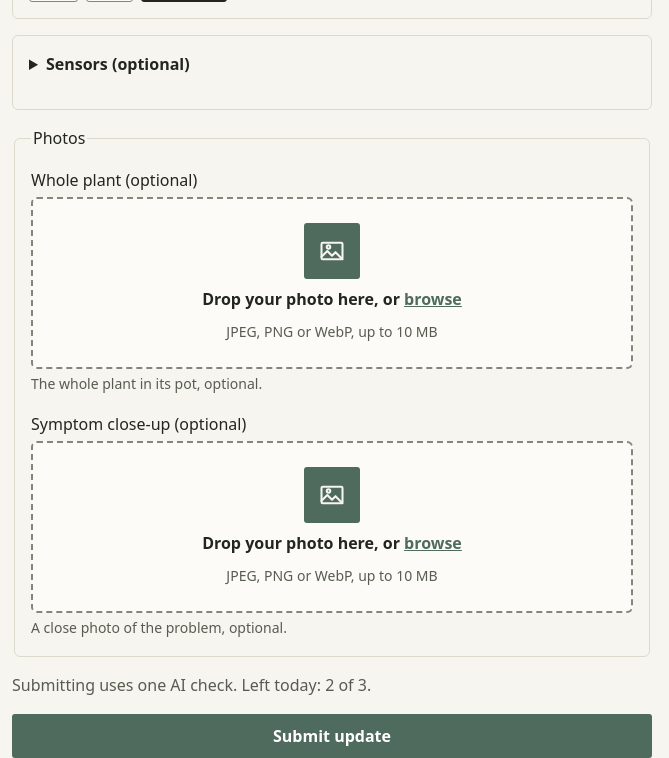
it: NewUpdatePage › needs only the lighting: photos are optional
(page scrolled)
Click the button "Submit update": (332, 736) [12, 714, 652, 757]
(page scrolled)
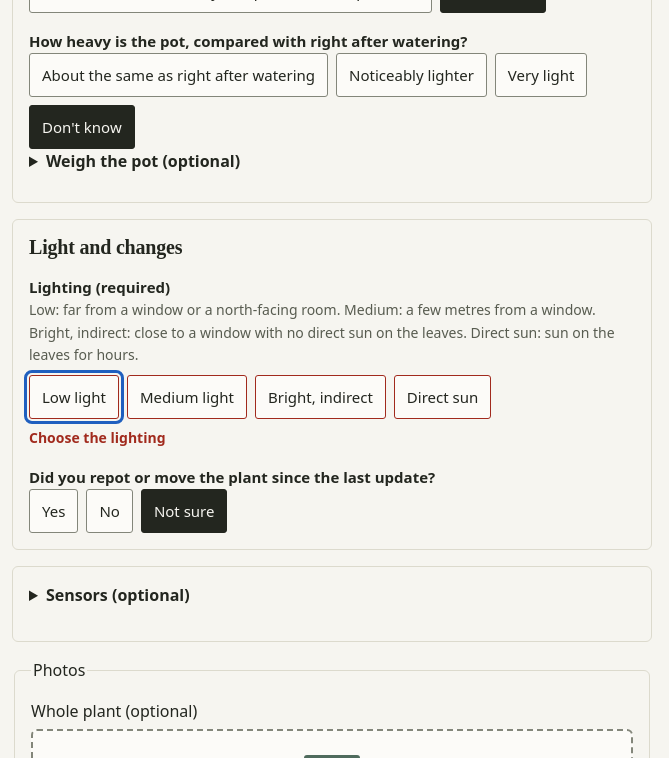
Expected: the text "Choose the lighting" is shown, [29, 428, 166, 446]
